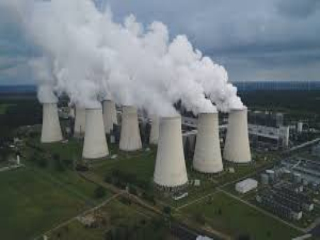smoke: (30, 16, 245, 112)
